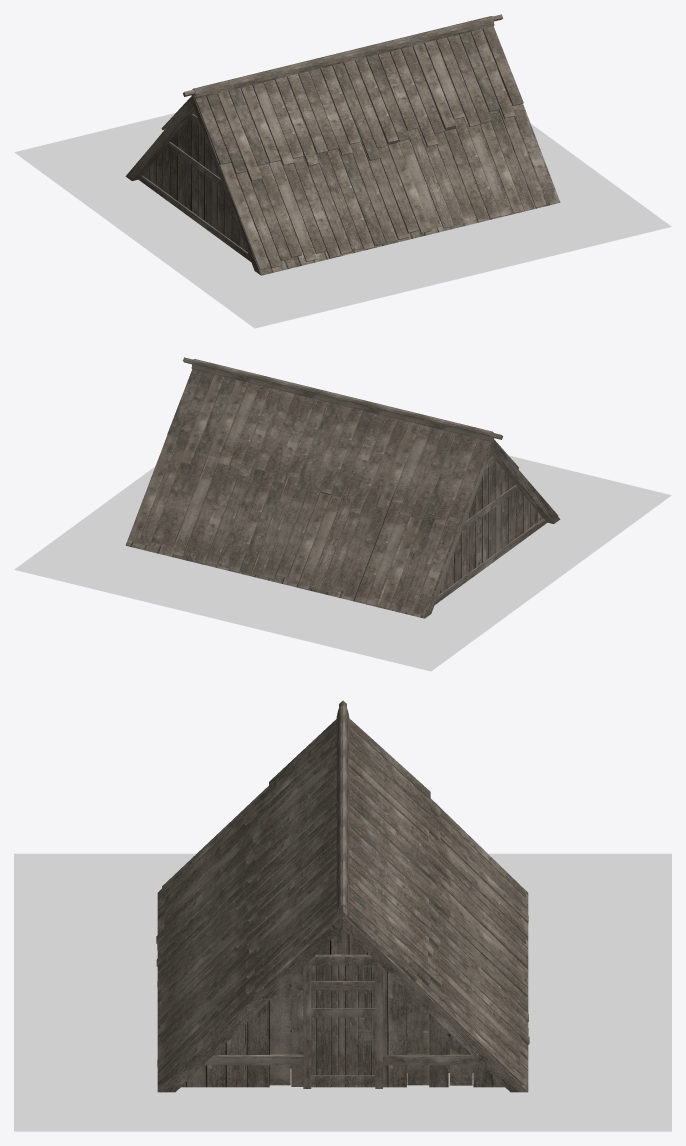
File: viking house.fbx
The picture shows the model from 3 angles, top to bottom: view 1: azimuth 30°, elevation 25°; view 2: azimuth 150°, elevation 25°; view 3: azimuth 270°, elevation 25°; orthographic projection. The views are drawn at different scales.
Parts seen in each view (by area): view 1: House, Plane; view 2: House, Plane; view 3: House, Plane.
Part boxes in pixels (x1,y1,x2,y2): House: [125, 14, 560, 275]; Plane: [14, 113, 671, 328]; House: [125, 357, 560, 618]; Plane: [14, 455, 671, 671]; House: [156, 700, 529, 1092]; Plane: [14, 853, 671, 1131].
Bounding box in the file's own units: 957 × 306 × 957.
1 material, 1 textured.
